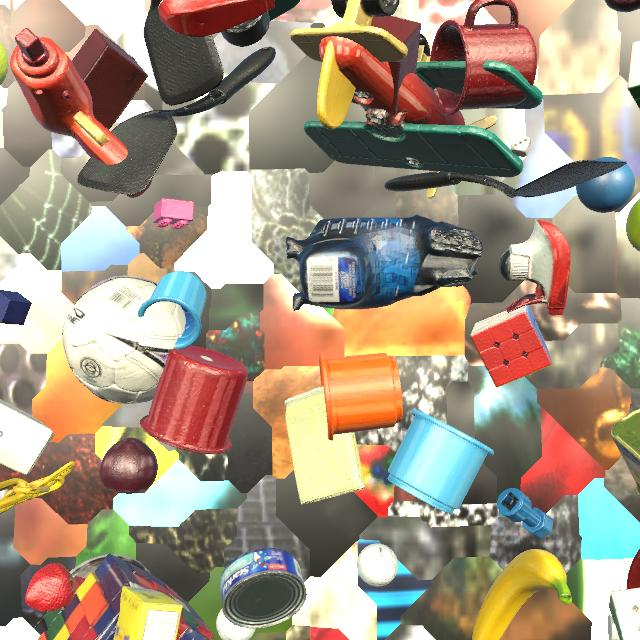ycb_004_sugar_box: (0, 399, 55, 475), (113, 586, 183, 640)
ycb_007_tuna_fish_can: (220, 548, 307, 629)
ycb_010_potted_meat_can: (611, 408, 640, 496)
ycb_011_banana: (472, 549, 572, 640)
ycb_012_strawberry: (25, 563, 75, 612)
ycb_016_pear: (626, 199, 640, 252)
ycb_018_plum: (100, 438, 158, 494), (605, 0, 640, 12)
